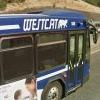Bus: (2, 9, 92, 100)
